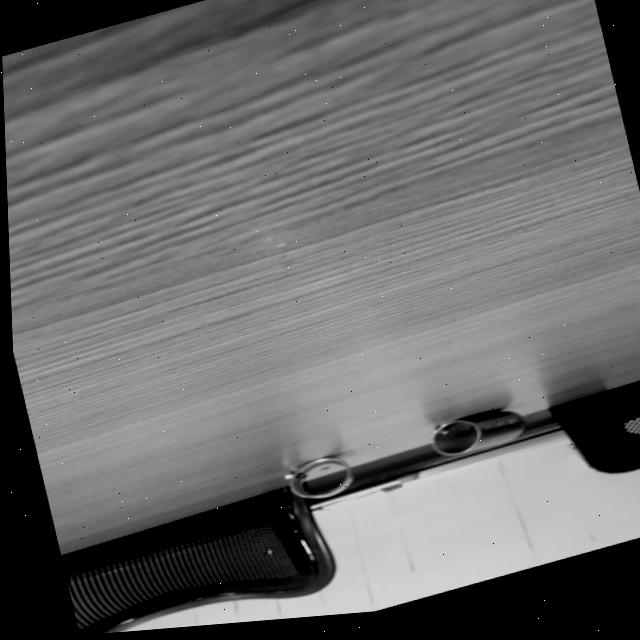Co_Lon: (283, 447, 358, 511)
Co_Nho: (428, 405, 528, 460)
